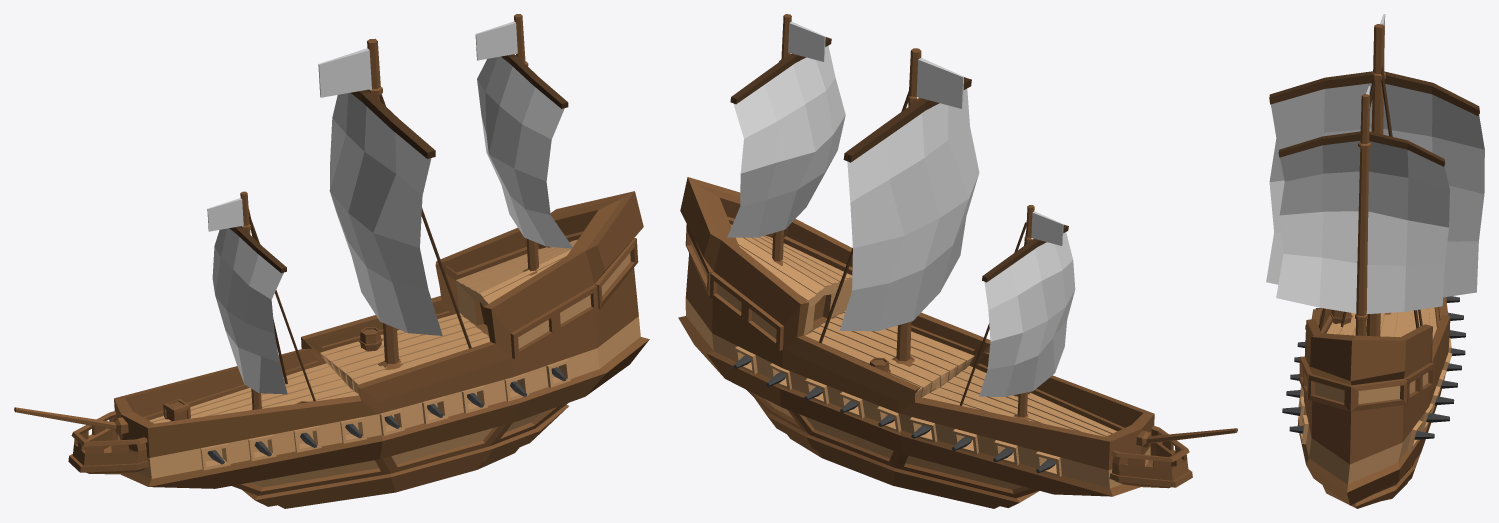
Rendered from boat.glb.
3 renders of one model, left to right at view 1: azimuth 30°, elevation 25°; view 2: azimuth 150°, elevation 25°; view 3: azimuth 270°, elevation 25°, orthographic. The views are drawn at different scales.
Visible parts, largest first — view 1: boat; view 2: boat; view 3: boat.
Part boxes in pixels (x1,y1,x2,y2): boat: (14, 14, 649, 508); boat: (678, 14, 1237, 508); boat: (1266, 14, 1484, 508).
Size of the model in its own units: 5.05 by 3.5 by 1.62.
